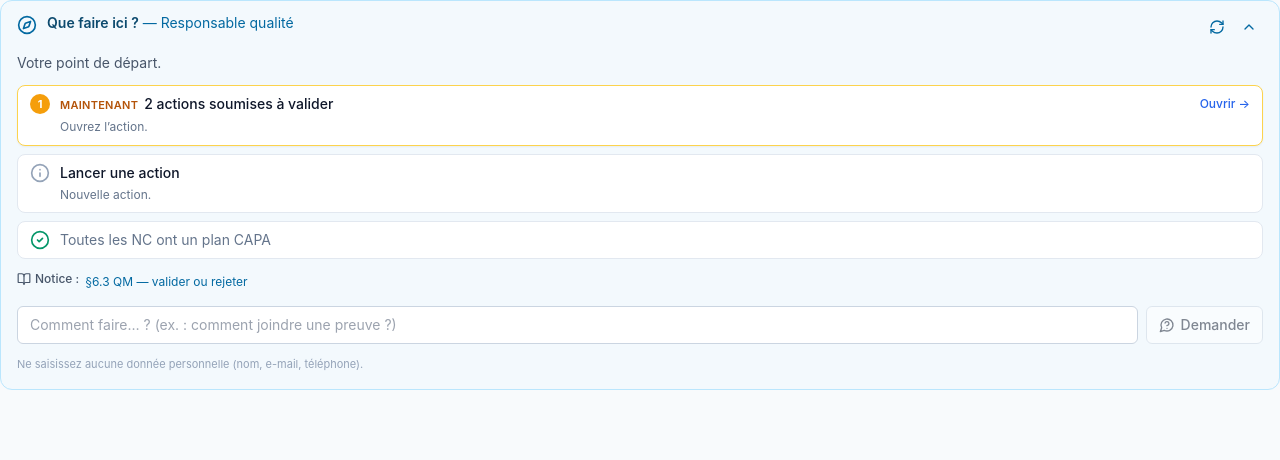
it: GuidePanel › ouvre la section de la notice
Click the button "§6.3 QM — valider ou rejeter" at (166, 282), box x1=85 y1=274 x2=248 y2=290
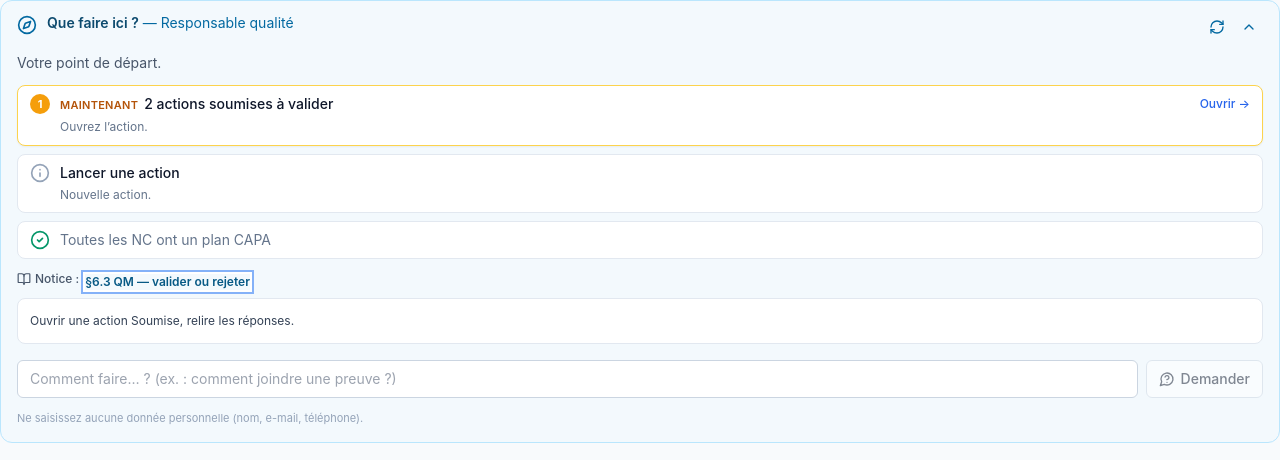
Result: the text "Ouvrir une action Soumise, relire les réponses." is shown at x1=17 y1=298 x2=1263 y2=344
